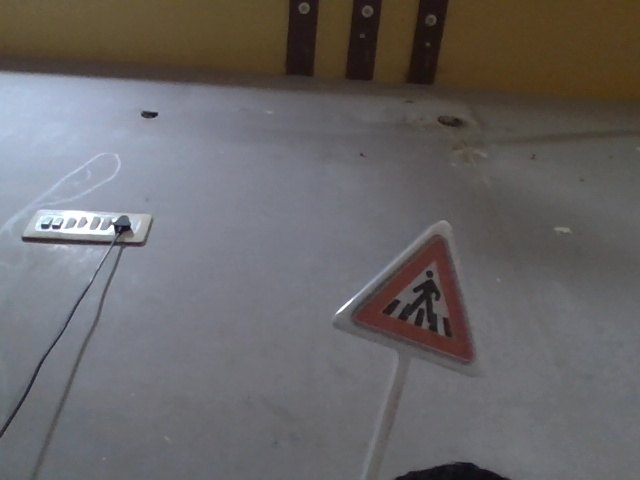crossing: (327, 199, 492, 370)
